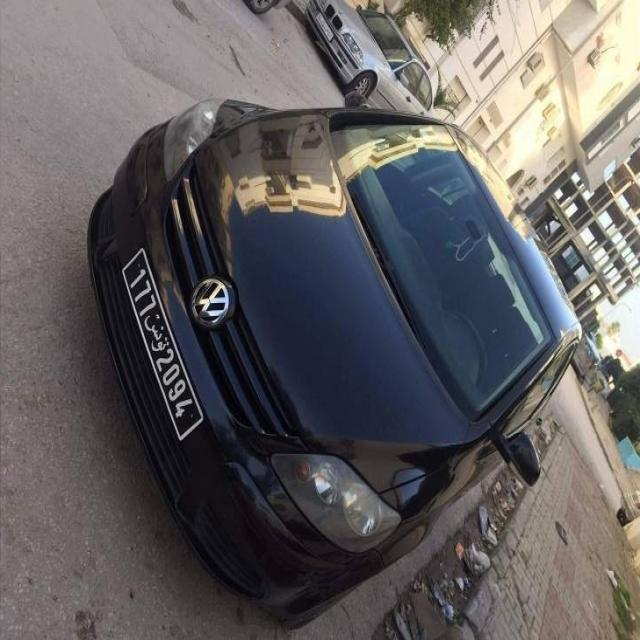licence plate: (123, 252, 201, 436)
